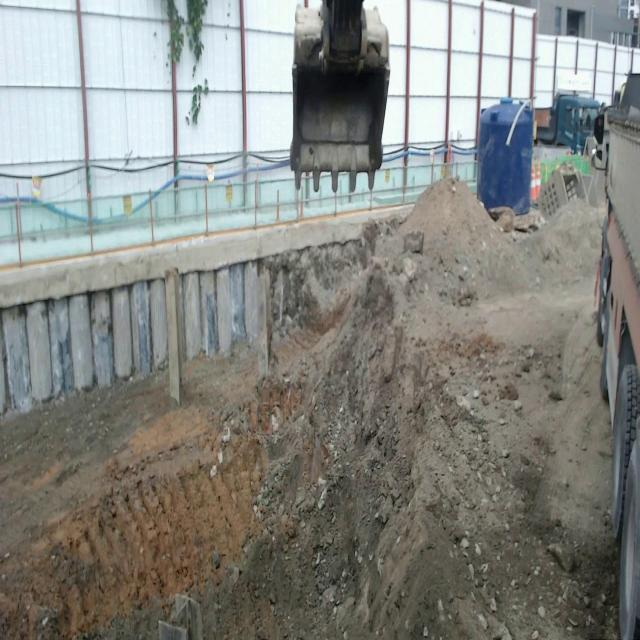cement: (0, 205, 410, 308)
red-sand: (0, 181, 617, 639)
